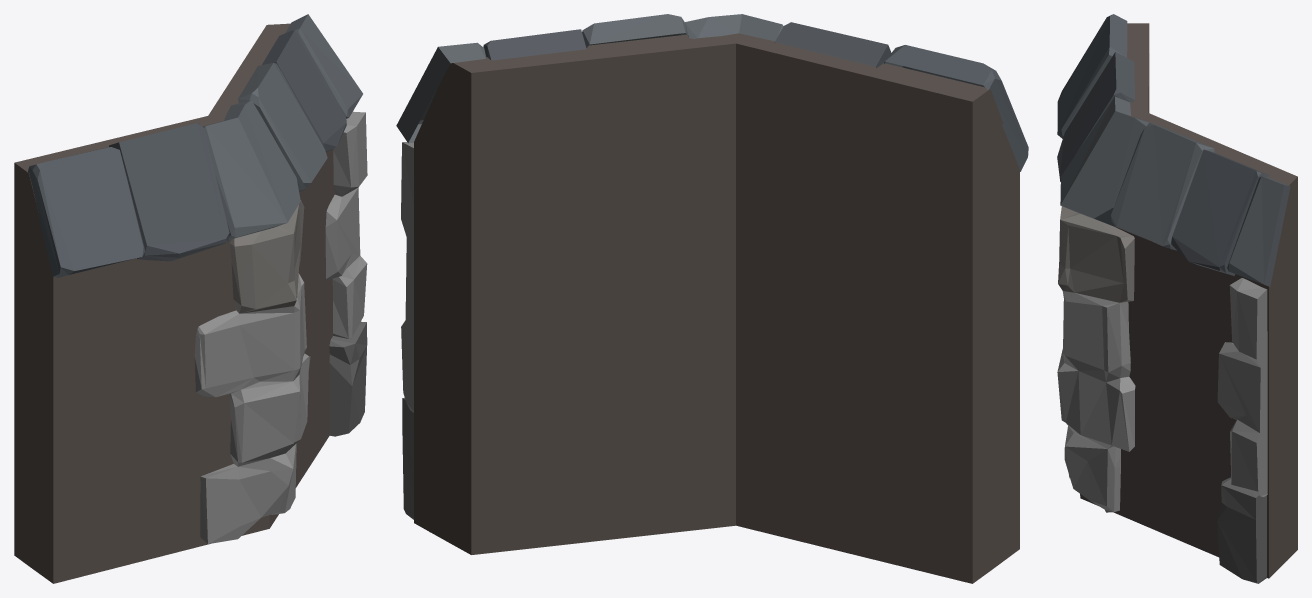
File: MCastle_OctWalls_SlateBase_02.FBX
3 views of the same model, side by side, from view 1: azimuth 30°, elevation 25°; view 2: azimuth 150°, elevation 25°; view 3: azimuth 270°, elevation 25° (orthographic). The views are drawn at different scales.
Parts seen in each view (by area): view 1: MCastle_OctWalls_SlateBase_02_LOD0; view 2: MCastle_OctWalls_SlateBase_02_LOD0; view 3: MCastle_OctWalls_SlateBase_02_LOD0.
Boxes of the visible parts, x1=… form: MCastle_OctWalls_SlateBase_02_LOD0: x1=14, y1=14, x2=367, y2=583; MCastle_OctWalls_SlateBase_02_LOD0: x1=396, y1=14, x2=1028, y2=583; MCastle_OctWalls_SlateBase_02_LOD0: x1=1057, y1=14, x2=1297, y2=583.
Size of what is drawn, in the model's own units: 4.87 by 4.63 by 2.61.
